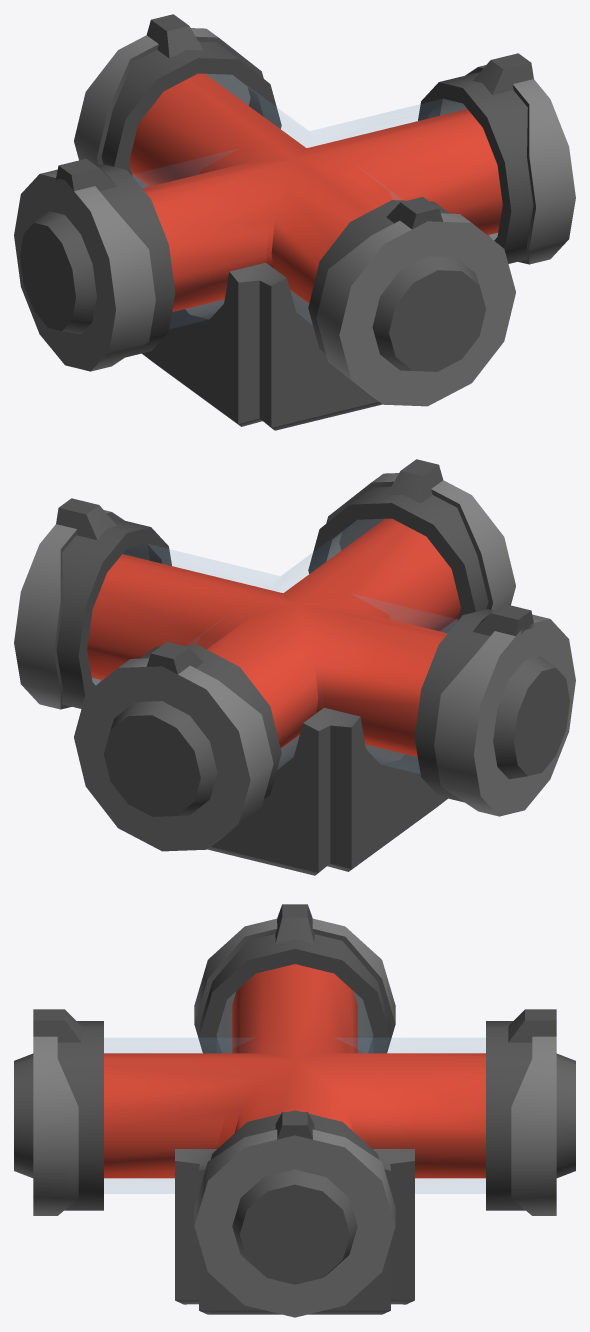
Rendered from Liquid_Red_Pipe_04_Way.fbx.
The picture shows the model from 3 angles, top to bottom: view 1: azimuth 30°, elevation 25°; view 2: azimuth 150°, elevation 25°; view 3: azimuth 270°, elevation 25°; orthographic projection.
Parts seen in each view (by area): view 1: Liquid_Red_Pipe_04_Way; view 2: Liquid_Red_Pipe_04_Way; view 3: Liquid_Red_Pipe_04_Way.
Part boxes in pixels (x1,y1,x2,y2): Liquid_Red_Pipe_04_Way: [14, 14, 575, 430]; Liquid_Red_Pipe_04_Way: [14, 459, 575, 875]; Liquid_Red_Pipe_04_Way: [14, 904, 575, 1317].
Size of the model in its own units: 215 by 107 by 215.
